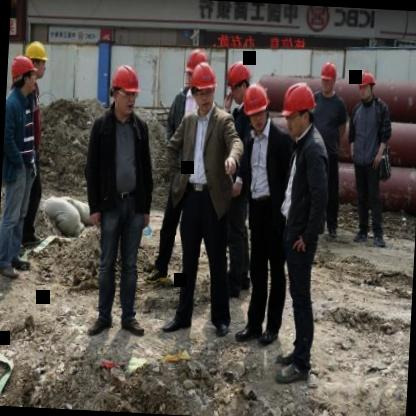helmet: (281, 80, 317, 138), (107, 62, 142, 120), (186, 62, 218, 112), (242, 82, 272, 132), (180, 43, 208, 89), (224, 60, 251, 106), (24, 38, 51, 78), (9, 54, 33, 94), (317, 59, 340, 97), (356, 67, 378, 102)
